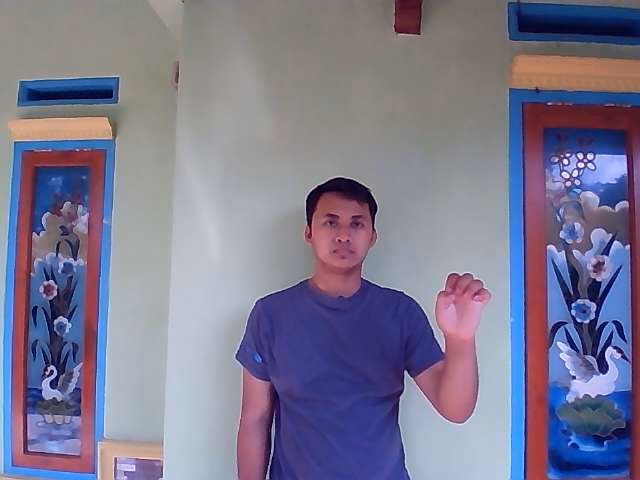E: (433, 272, 491, 330)
